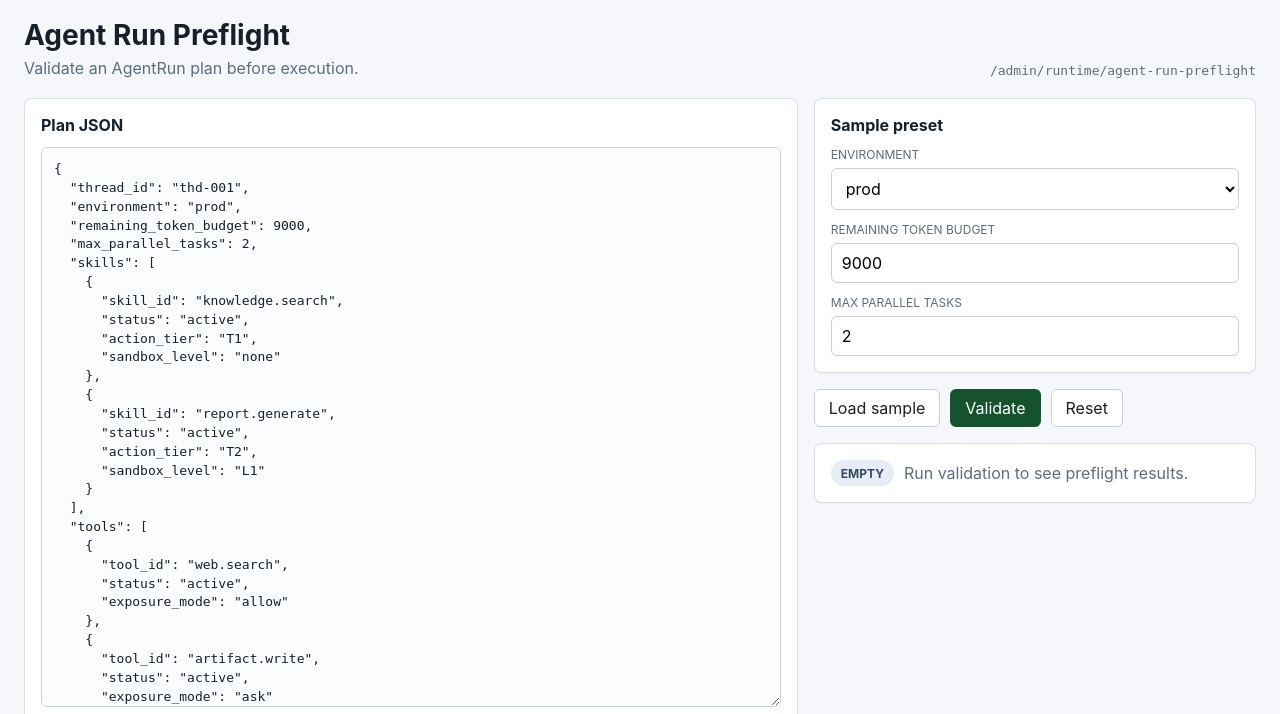
it: AgentRunPreflightPage › shows normalized plan JSON
Click the button "Validate" at x=995, y=408, box [950,389,1040,427]
(page scrolled)
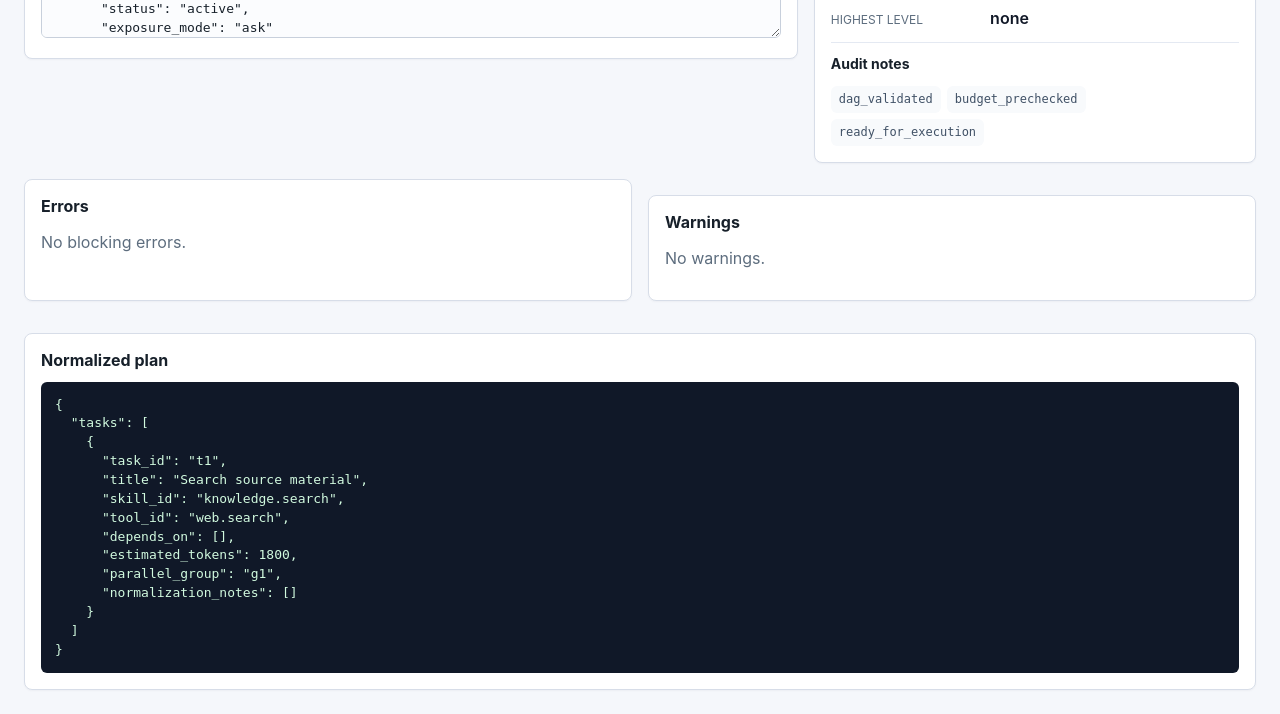
Expected: the text "Normalized plan" is shown, [41,350,168,370]
Now the text "Search source material" is shown, box [55,397,368,657]
